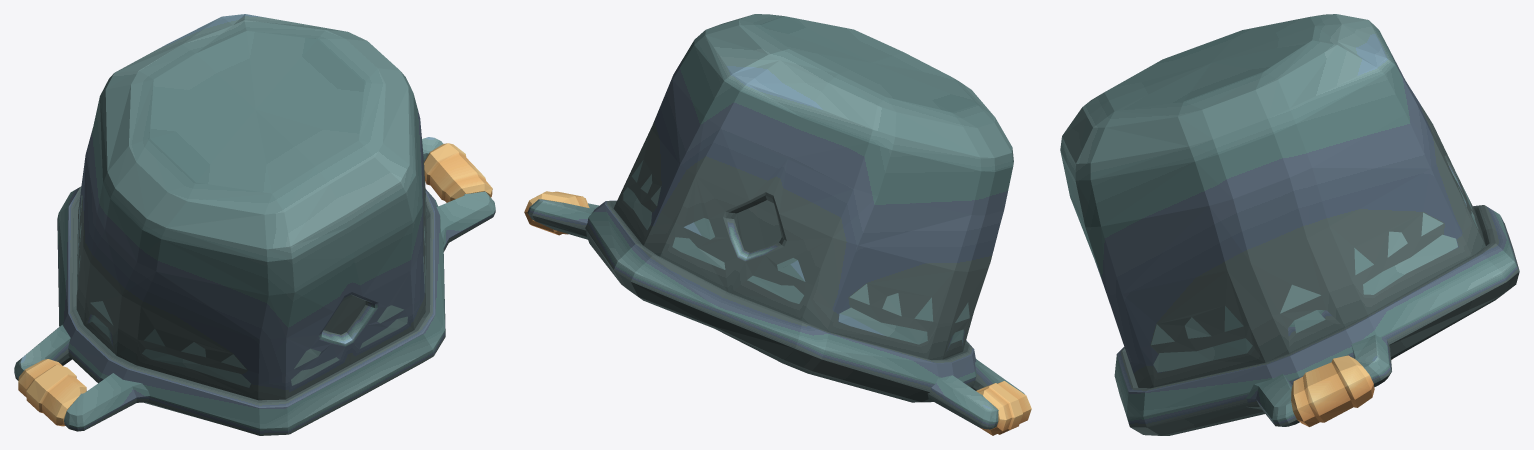
File: CharSkyKid_Hair_AP10PotHat_01.glb
3 views of the same model, side by side, from view 1: azimuth 30°, elevation 25°; view 2: azimuth 150°, elevation 25°; view 3: azimuth 270°, elevation 25° (orthographic). The views are drawn at different scales.
Parts seen in each view (by area): view 1: CharSkyKid_Hair_AP10PotHat_01; view 2: CharSkyKid_Hair_AP10PotHat_01; view 3: CharSkyKid_Hair_AP10PotHat_01.
Part boxes in pixels (left/top/right/bottom): CharSkyKid_Hair_AP10PotHat_01: left=14, top=14, right=495, bottom=435; CharSkyKid_Hair_AP10PotHat_01: left=524, top=14, right=1031, bottom=435; CharSkyKid_Hair_AP10PotHat_01: left=1060, top=14, right=1519, bottom=435.
Size of the model in its own units: 4.83 by 3.36 by 3.7.
1 material, 1 textured.
